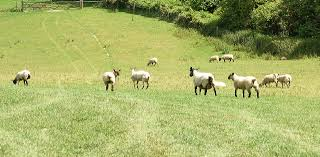sheep: (225, 69, 264, 99), (186, 69, 218, 99), (260, 69, 288, 94), (219, 50, 243, 73), (130, 66, 152, 91), (103, 68, 123, 92), (278, 72, 300, 93), (12, 70, 33, 89), (204, 52, 225, 66), (144, 56, 166, 69)
